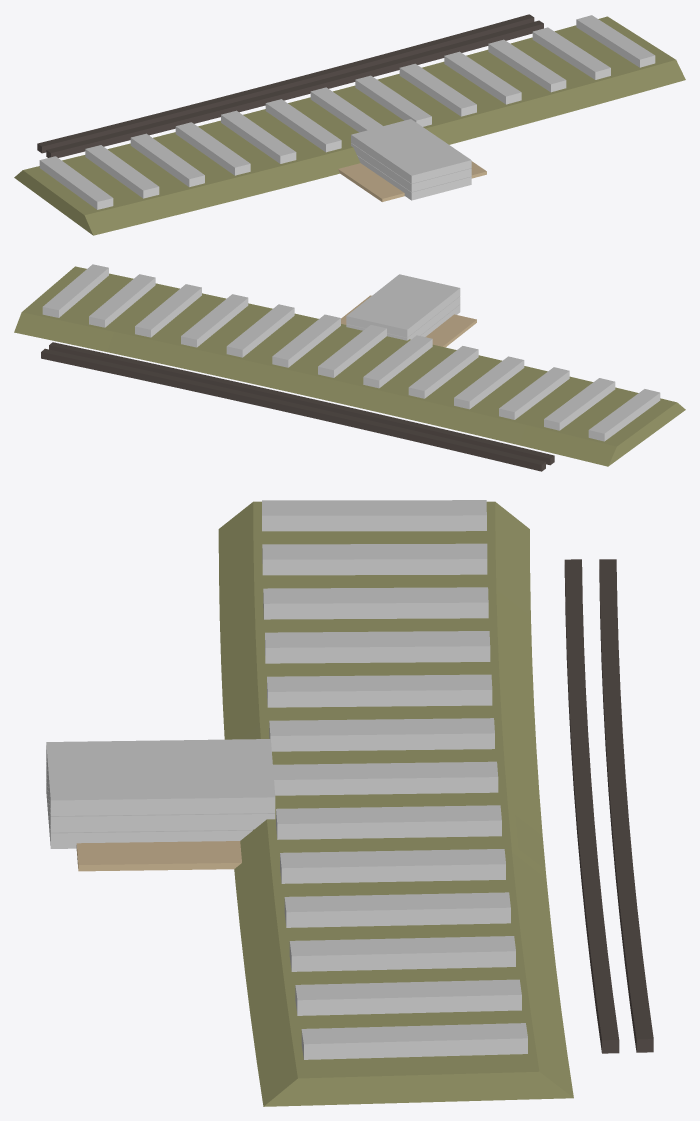
Rendered from SM_Via_CurvaR240_v3_Obra_LOD1.fbx.
3 renders of one model, top to bottom at view 1: azimuth 30°, elevation 25°; view 2: azimuth 150°, elevation 25°; view 3: azimuth 270°, elevation 25°, orthographic. The views are drawn at different scales.
Parts seen in each view (by area): view 1: SM_via_trazado_v23_LOD1; view 2: SM_via_trazado_v23_LOD1; view 3: SM_via_trazado_v23_LOD1.
Part boxes in pixels (bbox=[...]): SM_via_trazado_v23_LOD1: bbox=[14, 14, 685, 235]; SM_via_trazado_v23_LOD1: bbox=[14, 264, 685, 471]; SM_via_trazado_v23_LOD1: bbox=[46, 500, 653, 1106].
Bounding box in the file's own units: 15.81 × 0.63 × 7.03.
